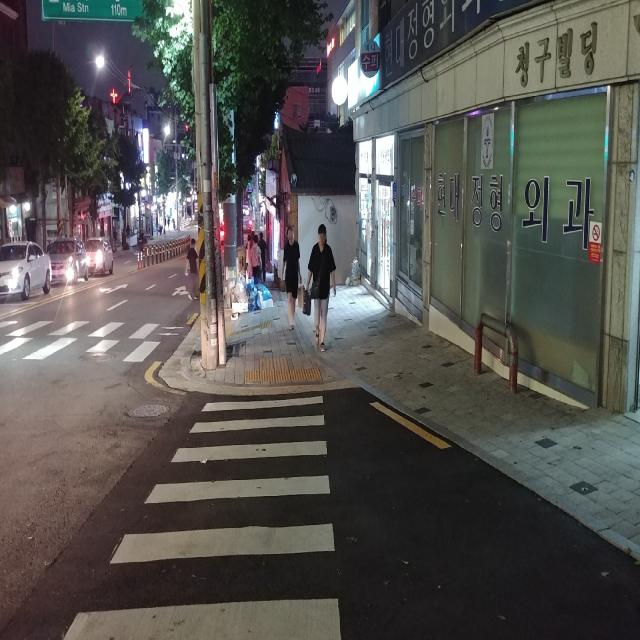횡단보도: (58, 391, 343, 640), (0, 308, 168, 367)
